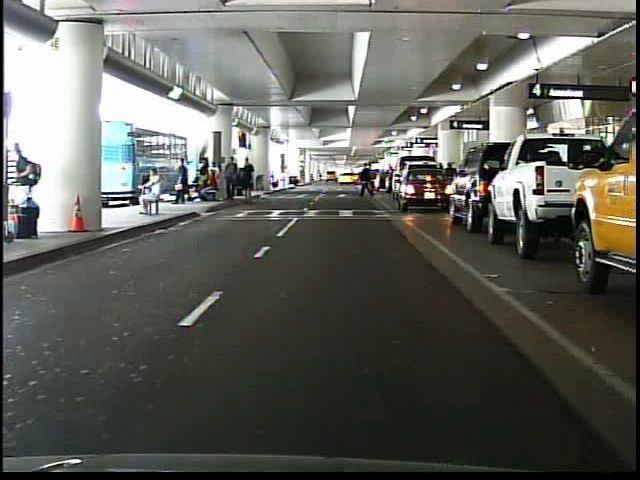person: (131, 167, 165, 219), (171, 156, 190, 208), (358, 159, 377, 203), (359, 160, 375, 197)
